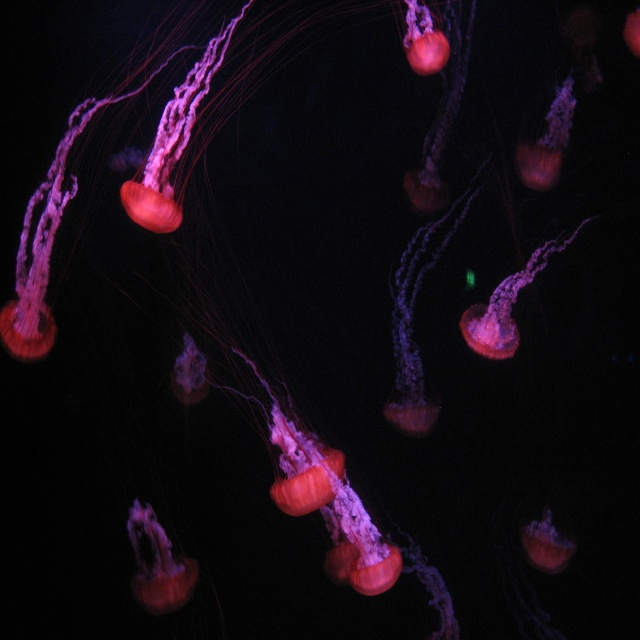Jellyfish: (0, 31, 200, 362), (118, 0, 300, 237), (388, 187, 480, 438), (219, 346, 348, 518), (461, 231, 582, 363), (302, 446, 404, 598), (123, 493, 191, 611), (515, 78, 578, 196), (404, 103, 456, 210), (520, 498, 574, 578), (398, 0, 454, 76), (173, 326, 219, 406)
